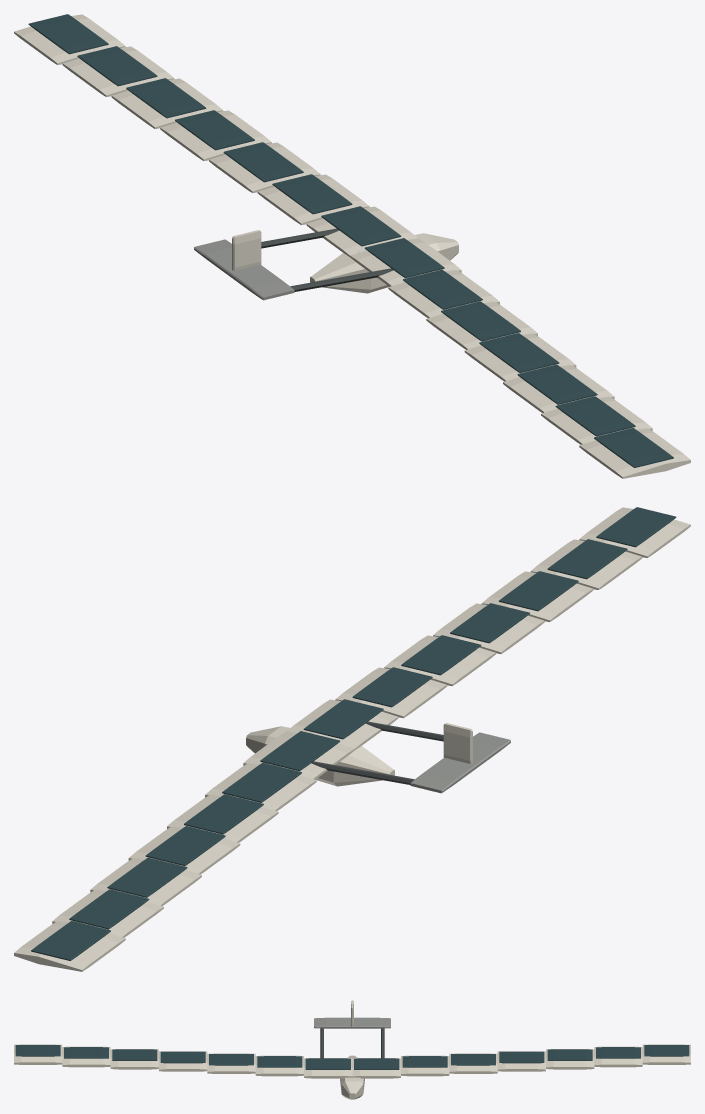
File: lantern-v001.glb
3 renders of one model, top to bottom at view 1: azimuth 30°, elevation 25°; view 2: azimuth 150°, elevation 25°; view 3: azimuth 270°, elevation 25°, orthographic. The views are drawn at different scales.
Parts seen in each view (by area): view 1: lantern-solar-wing, lantern-relay-pod-and-tail; view 2: lantern-solar-wing, lantern-relay-pod-and-tail; view 3: lantern-solar-wing, lantern-relay-pod-and-tail.
Boxes of the visible parts, x1,y1,x2,y2 form: lantern-solar-wing: [14, 14, 690, 478]; lantern-relay-pod-and-tail: [194, 228, 458, 300]; lantern-solar-wing: [14, 507, 690, 971]; lantern-relay-pod-and-tail: [246, 721, 510, 793]; lantern-solar-wing: [14, 1044, 690, 1078]; lantern-relay-pod-and-tail: [314, 1000, 390, 1099].
Bounding box in the file's own units: 9.7 × 3.32 × 44.8.
Materials: 1 (1 with a texture image).
